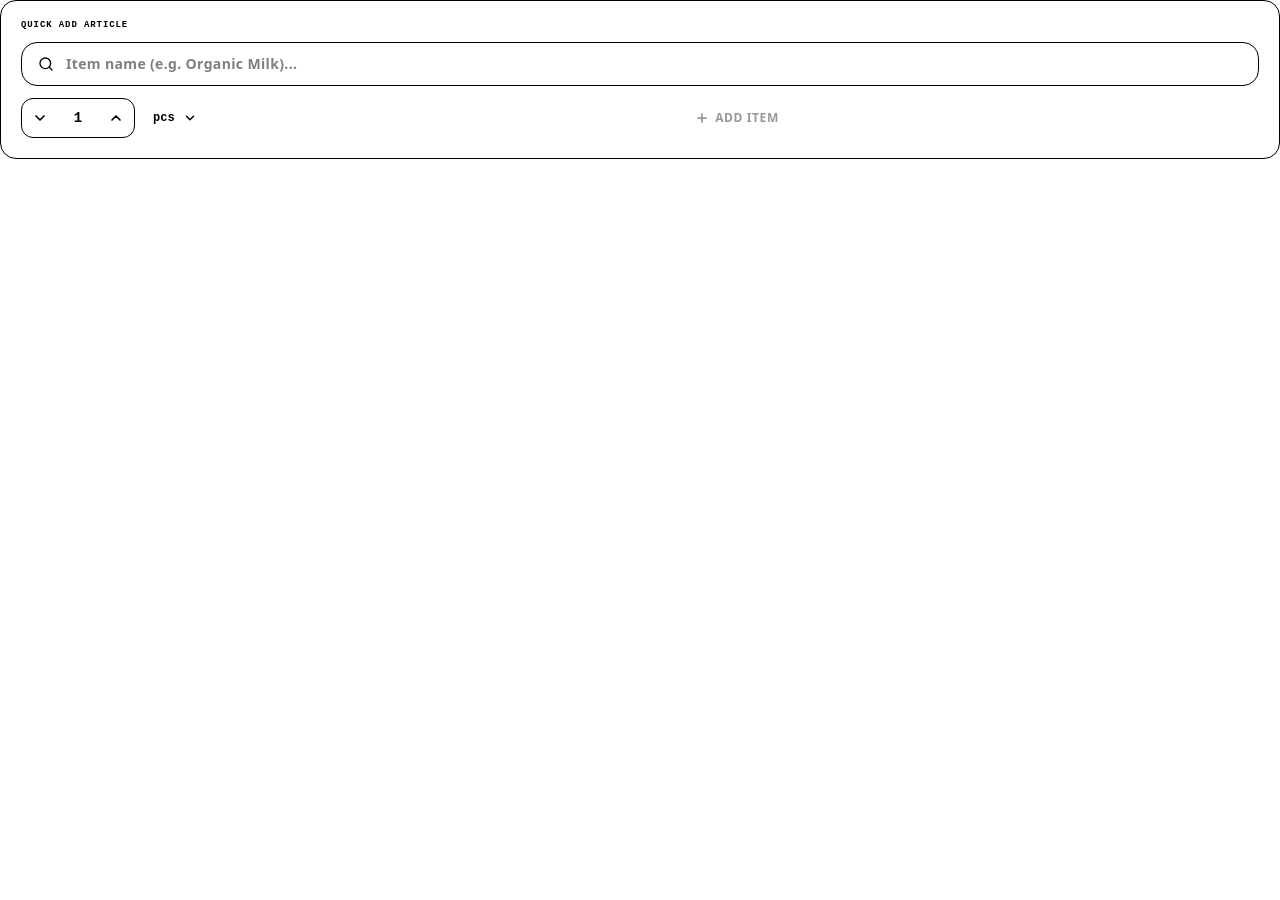
Test case: AddManualItem › offers English labels for the same codes
Click the button with aria-label "Unit" at (175, 118), box [143,98,207,138]
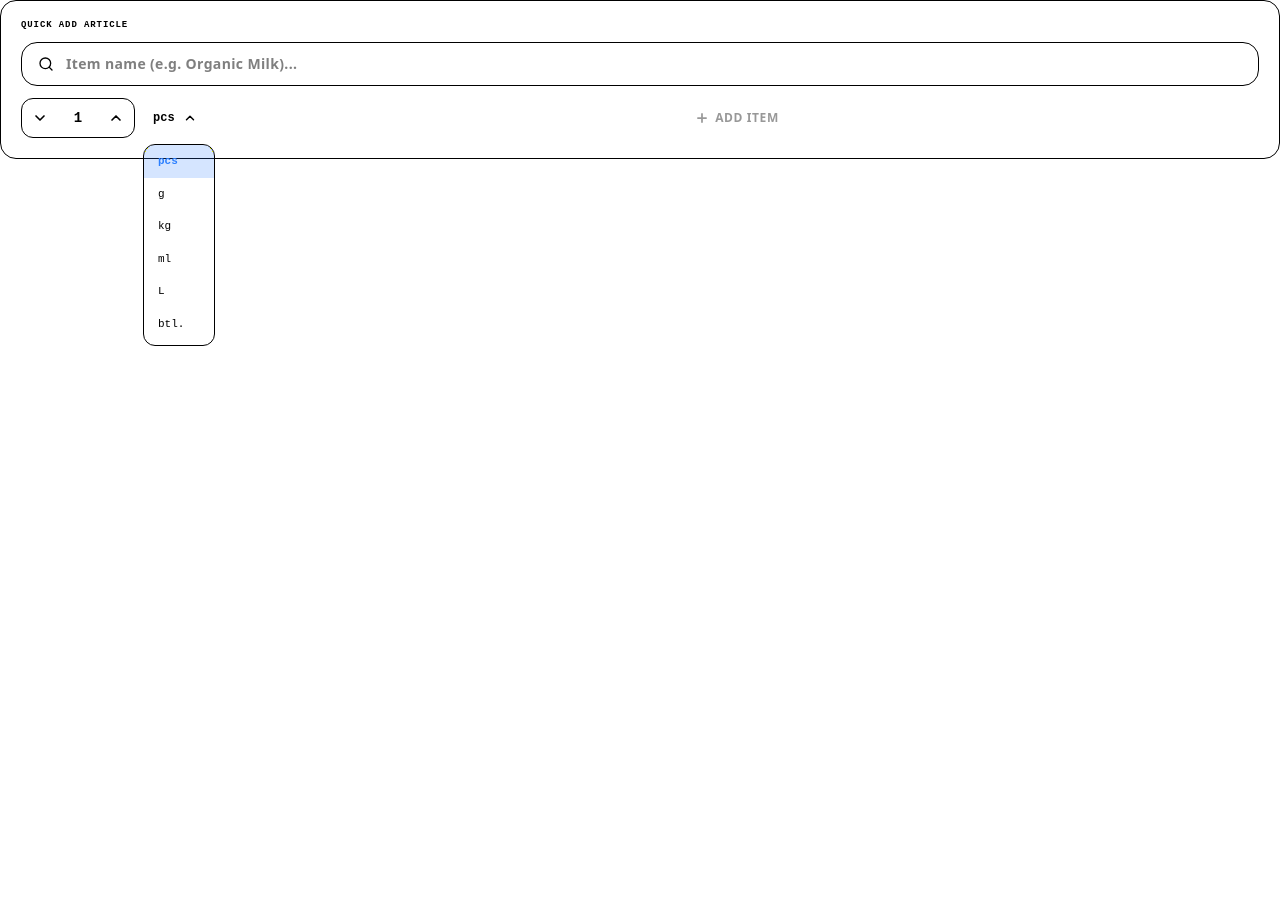
Now the button "btl." is shown, box [144,308,214,340]
